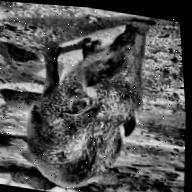boar: (6, 2, 173, 192)
